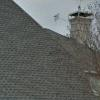Chimney: (64, 3, 93, 44)
